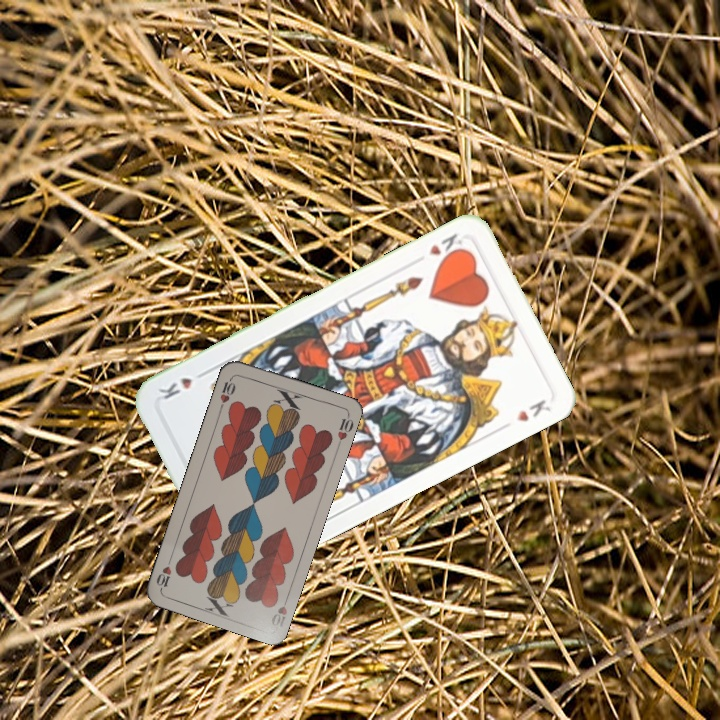H10: (267, 591, 292, 630), (216, 372, 238, 412)
HK: (424, 229, 471, 264)
